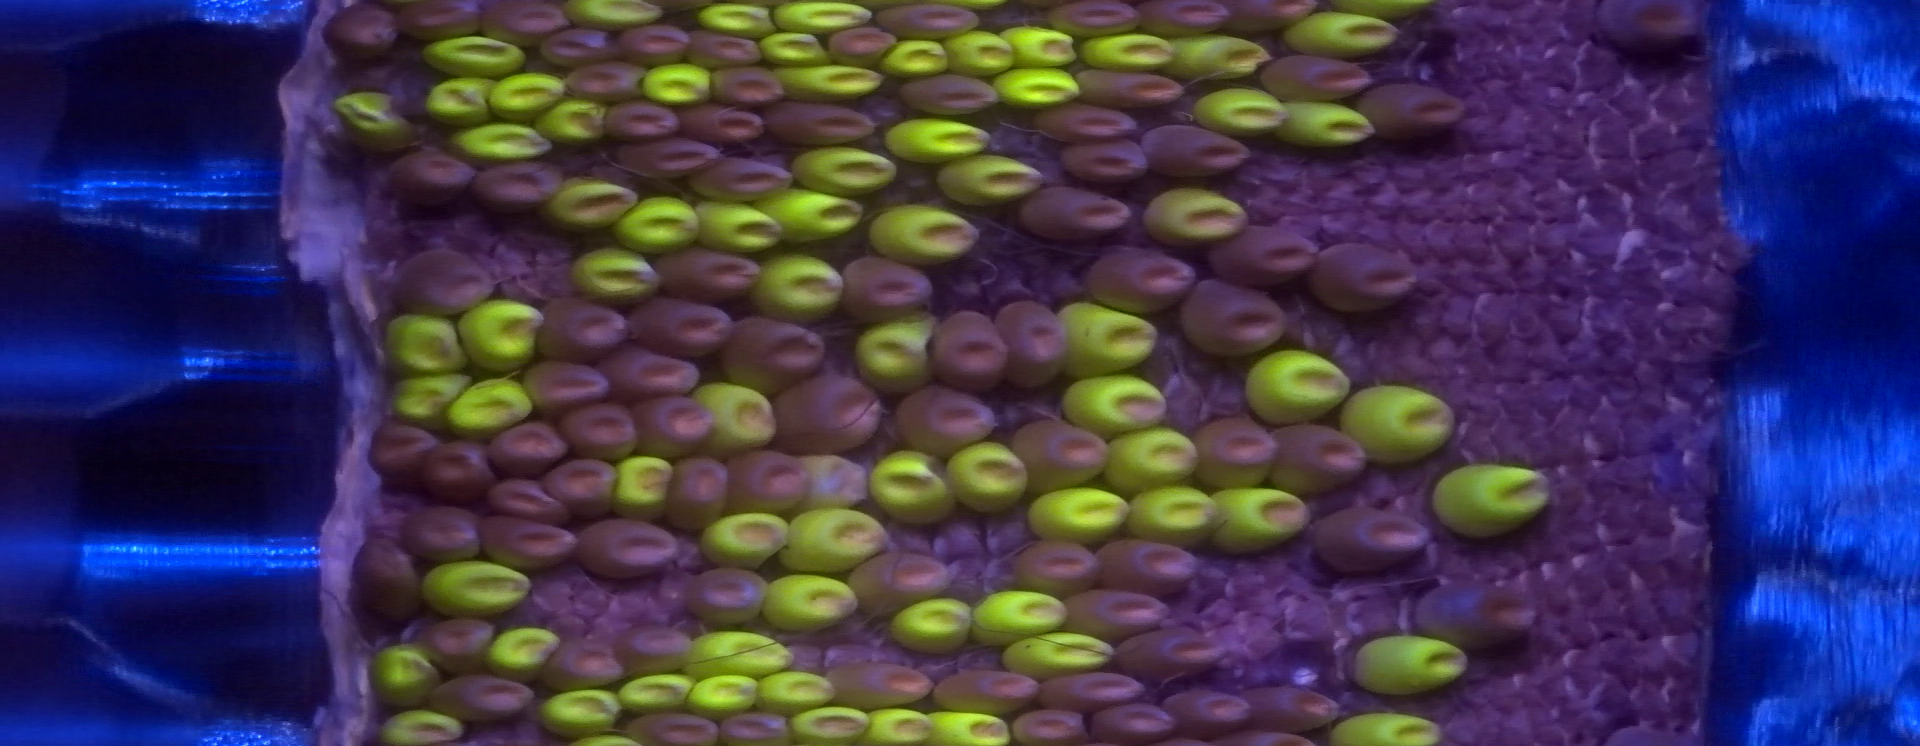fluorescent: (1434, 462, 1550, 537), (1340, 390, 1452, 461), (1247, 348, 1348, 423), (1052, 299, 1153, 372), (1206, 480, 1308, 545), (855, 315, 938, 390), (1356, 635, 1466, 691), (456, 301, 542, 371), (869, 205, 972, 262), (760, 575, 857, 635), (689, 382, 775, 450), (754, 251, 836, 321), (876, 450, 951, 523), (1064, 375, 1166, 429), (1141, 185, 1242, 239), (1287, 11, 1404, 56), (421, 561, 527, 611), (686, 196, 779, 252), (1029, 484, 1127, 537), (781, 513, 879, 566), (1104, 430, 1194, 488), (790, 146, 898, 191), (756, 187, 855, 236), (684, 631, 791, 676), (571, 247, 658, 303), (447, 375, 531, 431), (889, 600, 971, 657), (1164, 36, 1272, 78), (883, 118, 989, 160), (940, 156, 1041, 201), (1269, 102, 1371, 146), (971, 592, 1067, 638), (333, 89, 410, 147), (1193, 86, 1283, 135), (613, 198, 694, 252), (1129, 489, 1210, 541), (705, 513, 786, 566), (949, 443, 1021, 502), (1002, 636, 1113, 674), (396, 370, 469, 426), (389, 318, 465, 372), (447, 122, 551, 162), (550, 180, 637, 227), (425, 33, 519, 75), (611, 454, 670, 518), (775, 64, 884, 98), (1329, 709, 1438, 744), (373, 641, 435, 701), (484, 625, 555, 676), (989, 69, 1081, 107), (424, 73, 493, 122), (540, 688, 620, 731), (1081, 34, 1172, 69), (489, 77, 564, 116), (538, 99, 605, 143), (1000, 28, 1078, 66), (557, 1, 665, 28), (922, 709, 1007, 744), (943, 32, 1014, 72), (686, 675, 758, 714), (644, 66, 711, 107), (760, 671, 831, 709), (620, 675, 693, 710), (778, 2, 869, 31), (866, 706, 931, 745), (697, 2, 773, 36), (880, 37, 948, 73), (380, 710, 460, 740), (760, 32, 828, 65), (789, 713, 864, 740)
nonfluorescent: (1311, 503, 1433, 575), (771, 374, 880, 452), (1309, 243, 1420, 316), (1416, 582, 1537, 649), (1177, 279, 1286, 354), (893, 383, 996, 454), (623, 294, 731, 361), (1010, 416, 1112, 488), (1603, 1, 1712, 67), (1215, 222, 1318, 292), (1085, 244, 1190, 311), (1015, 184, 1134, 241), (388, 249, 493, 314), (720, 314, 818, 382), (931, 311, 1009, 394), (574, 517, 678, 579), (650, 244, 760, 303), (1273, 425, 1363, 496), (351, 533, 413, 633), (842, 255, 934, 321), (1367, 82, 1469, 141), (1142, 122, 1253, 176), (386, 145, 473, 212), (1004, 300, 1065, 394), (1111, 630, 1227, 679), (1261, 51, 1371, 103), (1100, 540, 1206, 593), (727, 451, 811, 517), (1199, 416, 1273, 489), (602, 349, 698, 405), (636, 397, 720, 461), (851, 552, 950, 605), (1011, 540, 1102, 597), (470, 160, 564, 214), (823, 661, 931, 708), (1078, 69, 1187, 114), (936, 669, 1038, 717), (770, 100, 877, 146), (680, 566, 764, 622), (539, 296, 624, 352), (431, 673, 535, 717), (324, 2, 400, 62), (516, 358, 610, 405), (402, 503, 476, 563), (902, 73, 1004, 118), (1248, 684, 1338, 733), (1169, 686, 1254, 737), (669, 456, 727, 528), (490, 423, 568, 477), (562, 404, 637, 461), (478, 524, 576, 567), (1029, 102, 1141, 138), (1065, 594, 1171, 633), (1035, 668, 1146, 704), (615, 138, 722, 176), (362, 423, 431, 480), (419, 615, 491, 669), (549, 461, 617, 517), (703, 160, 793, 202), (1090, 699, 1171, 746), (613, 625, 692, 673), (882, 1, 983, 38), (550, 635, 620, 687), (682, 103, 770, 145), (430, 439, 487, 502), (1053, 141, 1147, 179), (560, 60, 647, 100), (1007, 706, 1093, 746), (481, 480, 563, 522), (485, 2, 571, 42), (402, 1, 486, 40), (1051, 1, 1136, 38), (1232, 1, 1320, 36), (1141, 1, 1228, 36), (629, 714, 720, 746), (688, 31, 763, 69), (708, 70, 785, 107), (540, 28, 615, 65), (827, 26, 891, 66), (604, 103, 677, 138), (711, 712, 786, 746), (623, 24, 688, 62)
